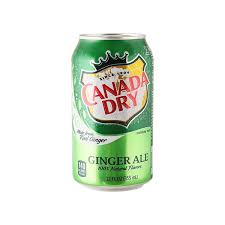Lata: (68, 32, 155, 193)
